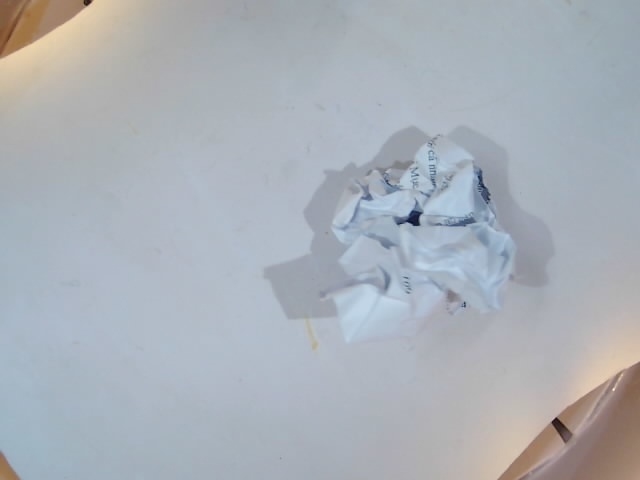paper: (269, 127, 534, 359)
